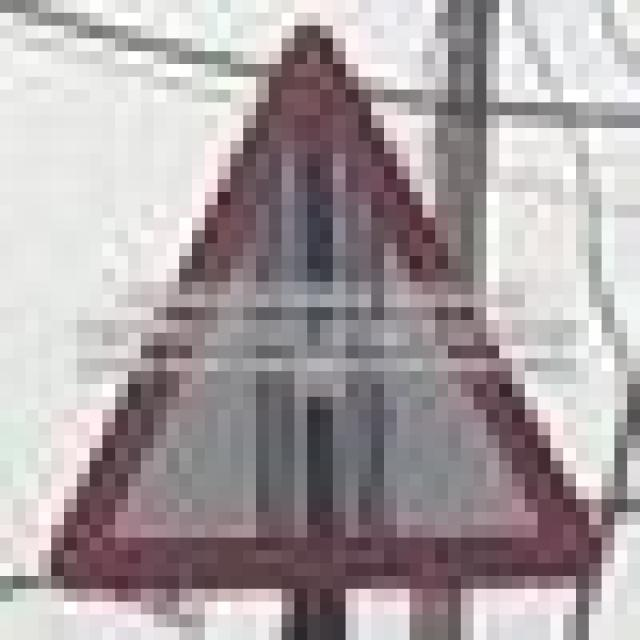ferry: (26, 13, 602, 576)
